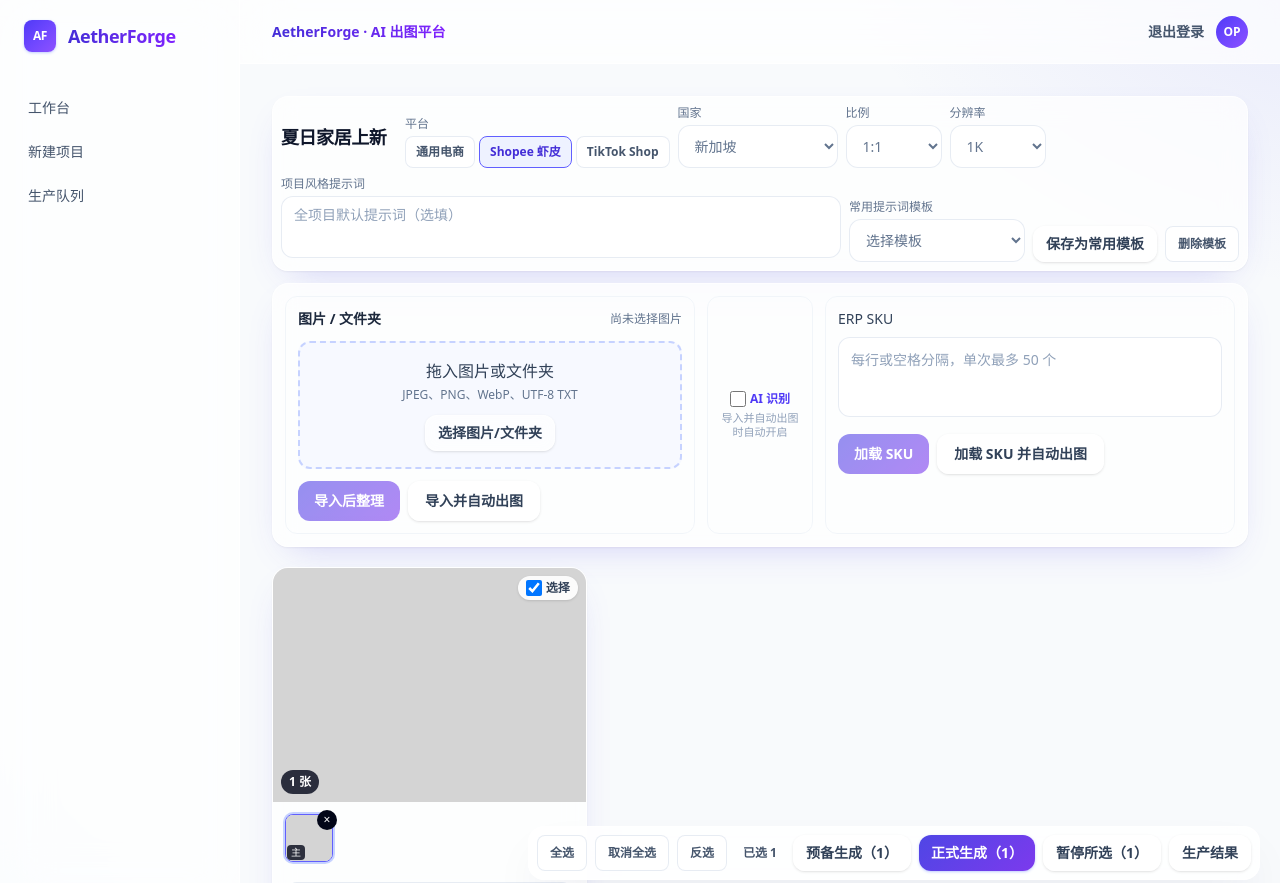
Test: shows two explicit import choices for both upload and ERP SKU entry
Check: the element named "添加商品面板" is shown, box [272,283,1248,547]
Click the button "选择图片/文件夹" at [490, 433], box [425,415,555,451]
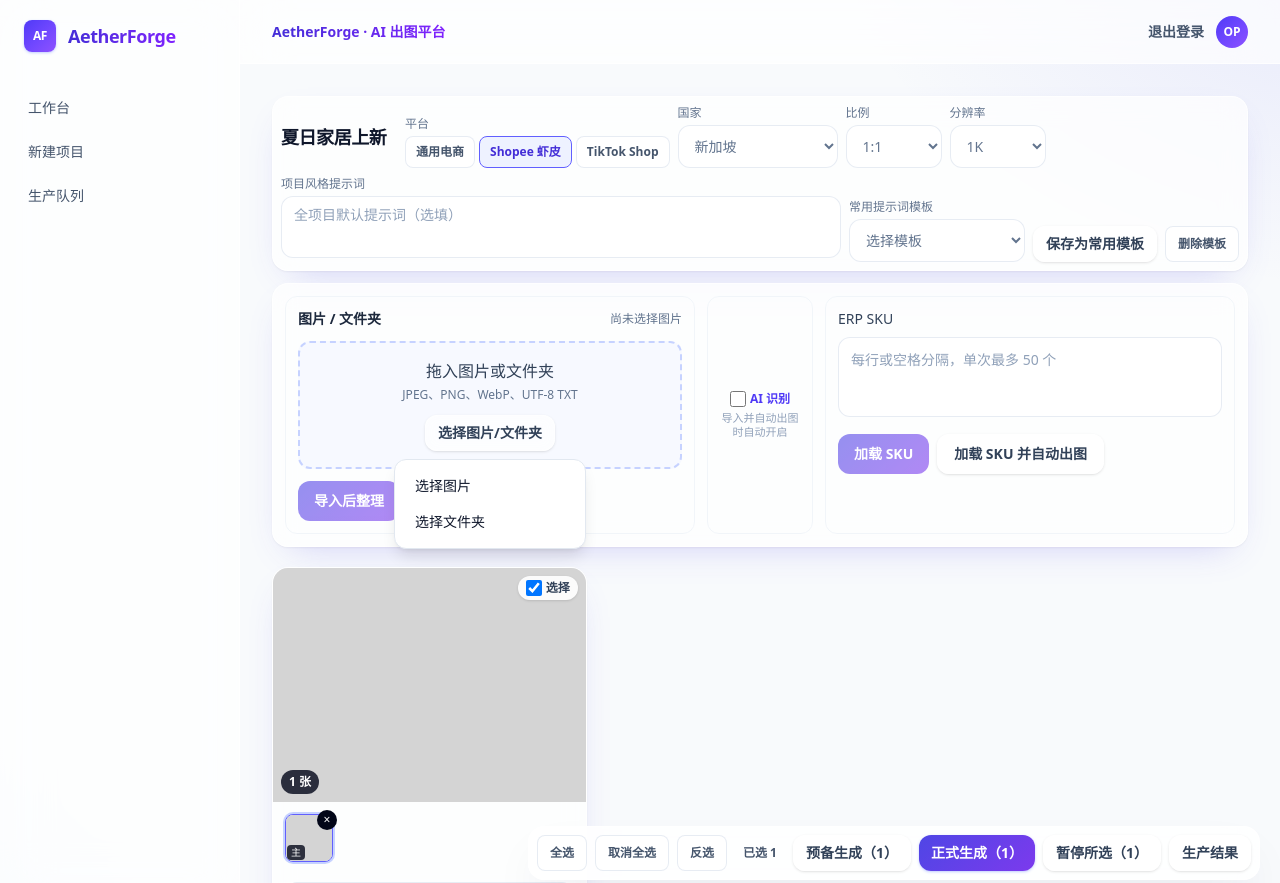
Check: the menu named "添加素材方式" is shown, box [394,459,586,549]
Check: the menu item "选择图片" is shown, box [403,468,577,504]
Check: the menu item "选择文件夹" is shown, box [403,504,577,540]
